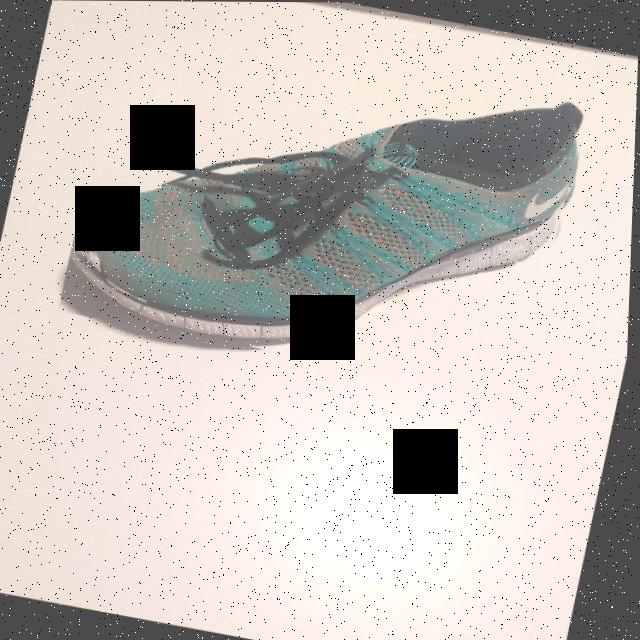shoe: (58, 14, 594, 397)
